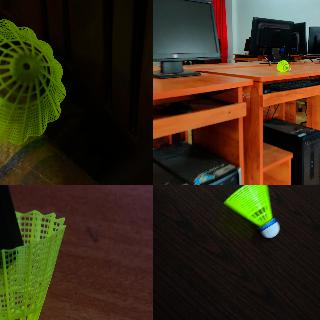shuttlecock: (0, 19, 65, 145), (0, 212, 67, 319), (222, 185, 280, 239), (276, 60, 290, 72)
